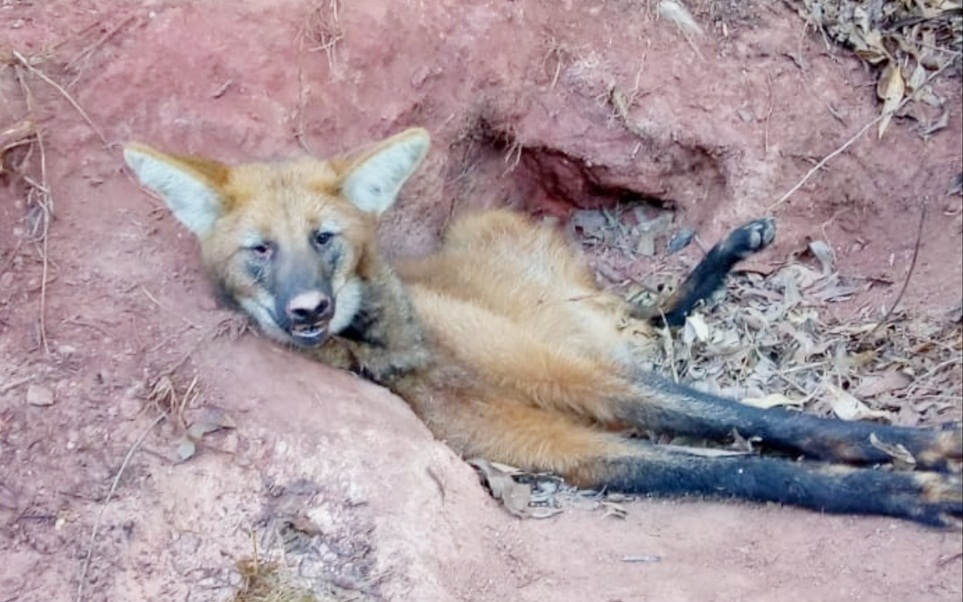LoboGuara: (107, 132, 949, 536)
